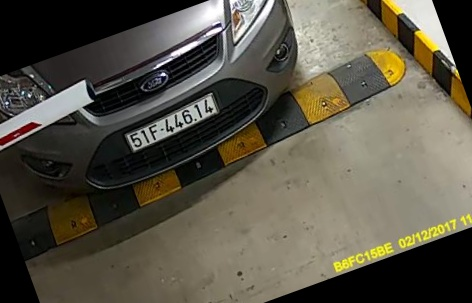plate: (124, 96, 223, 157)
